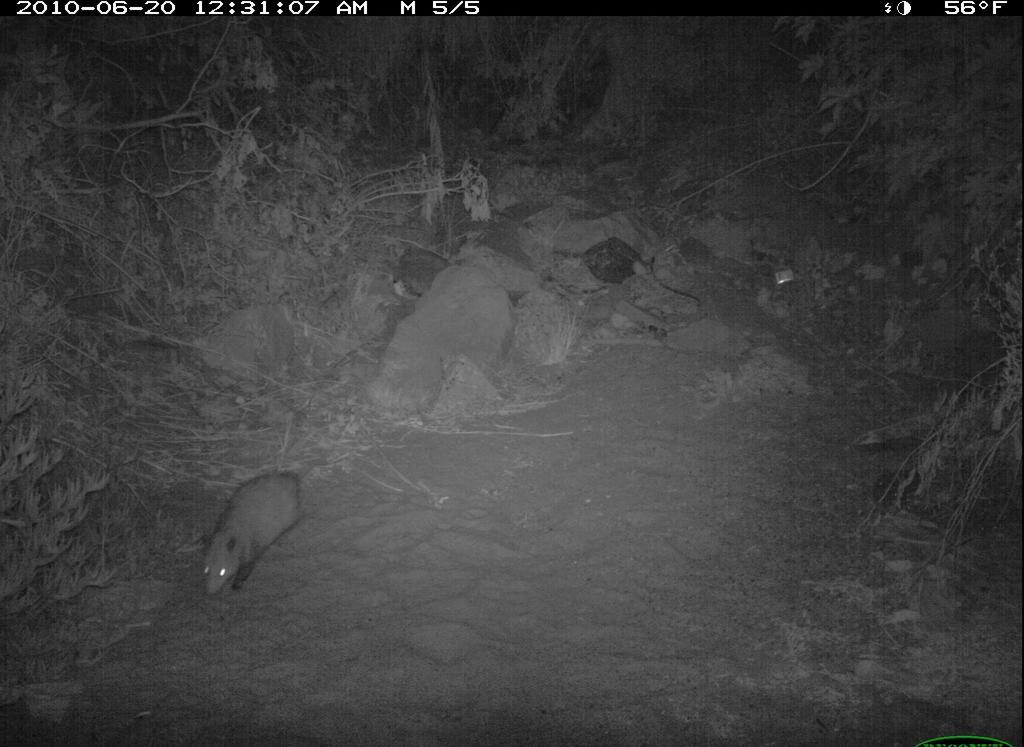opossum: (187, 463, 318, 603)
